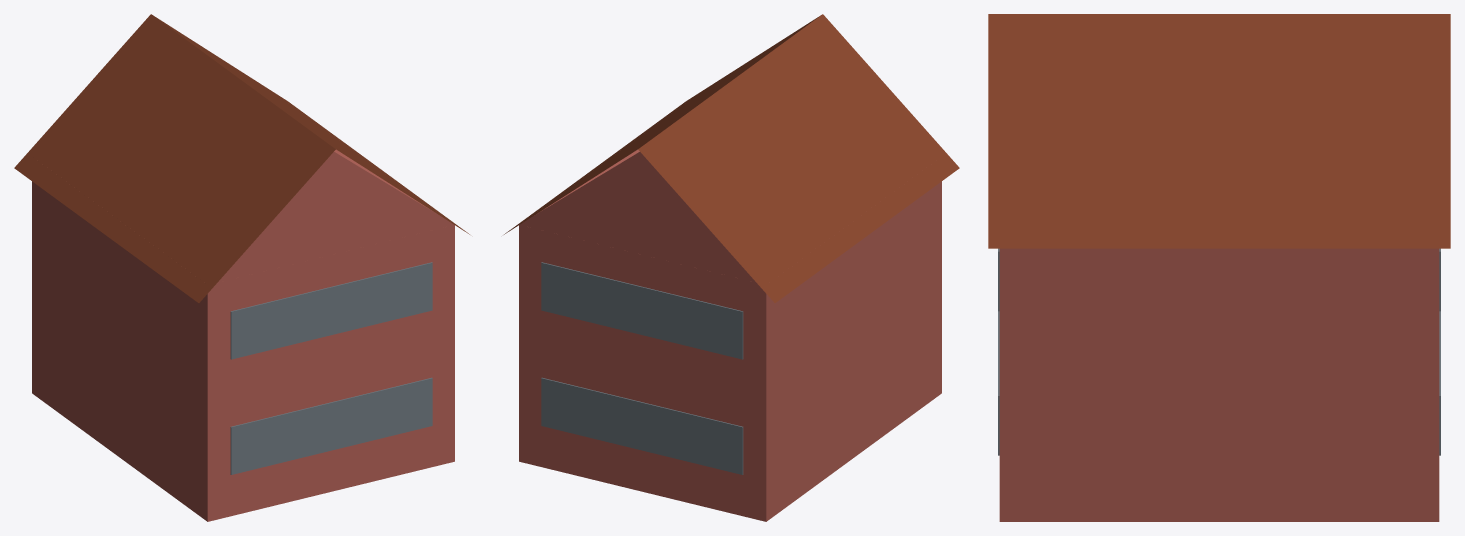
File: cove-house-red.tone-v1.lod2.glb
3 views of the same model, side by side, from view 1: azimuth 30°, elevation 25°; view 2: azimuth 150°, elevation 25°; view 3: azimuth 270°, elevation 25° (orthographic). The views are drawn at different scales.
Parts seen in each view (by area): view 1: cove-house-red; view 2: cove-house-red; view 3: cove-house-red.
Part boxes in pixels (x1,y1,x2,y2): cove-house-red: [14, 14, 469, 521]; cove-house-red: [504, 14, 959, 521]; cove-house-red: [988, 14, 1450, 521].
Bounding box in the file's own units: 7.2 × 8.69 × 8.42.
